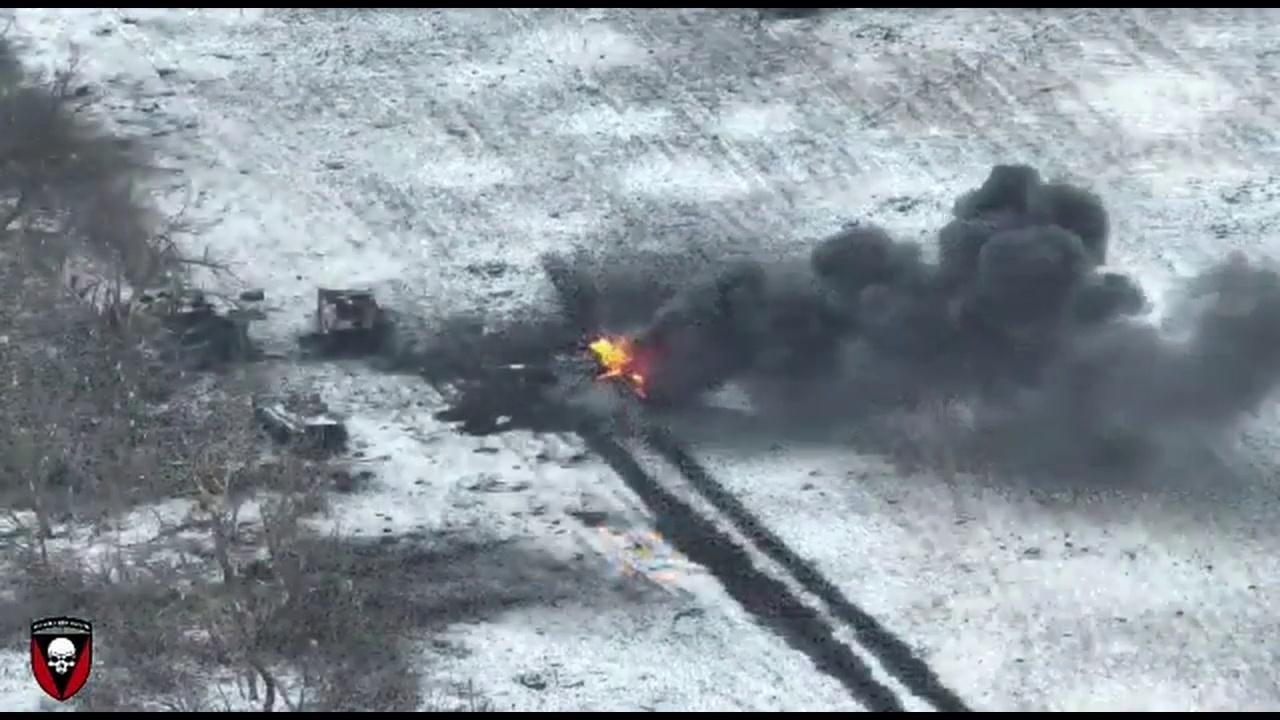vehicle: (137, 292, 250, 376), (251, 392, 349, 444), (316, 286, 381, 364)
